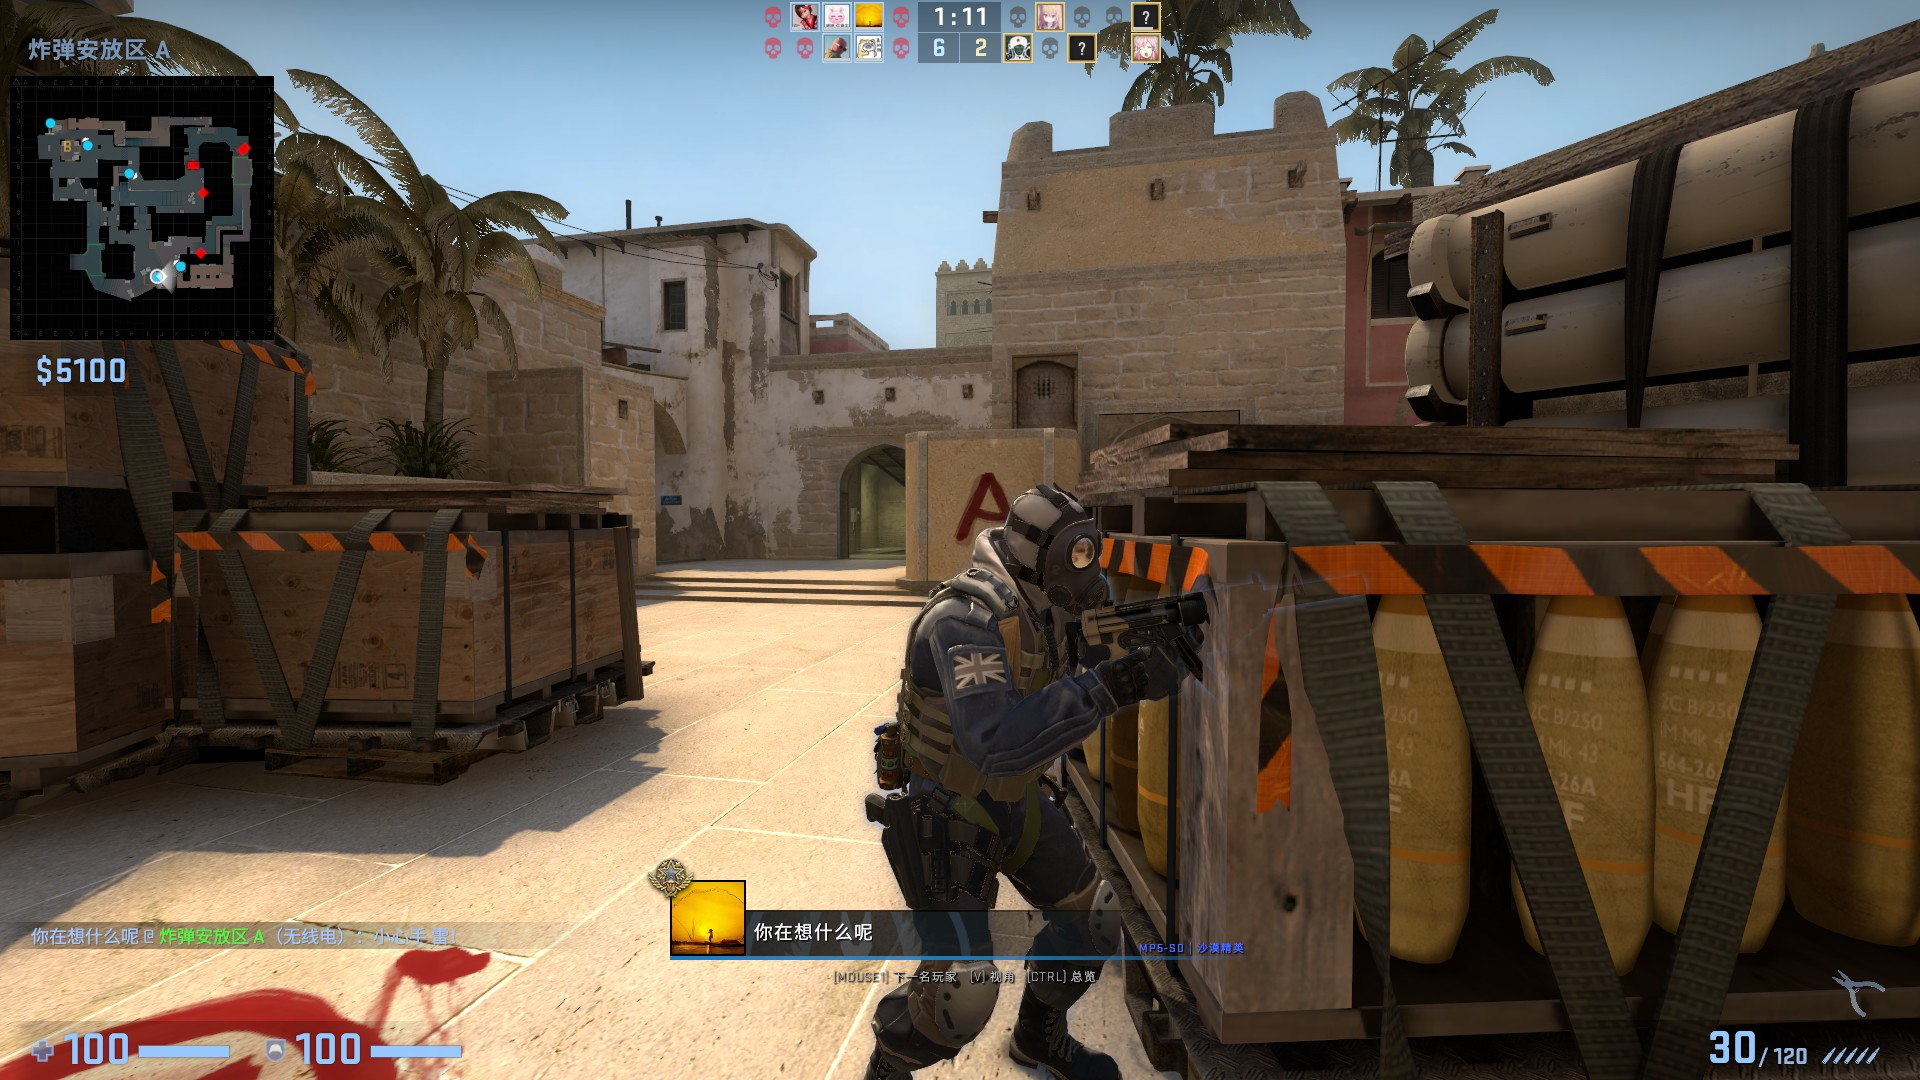head: (994, 478, 1113, 623)
